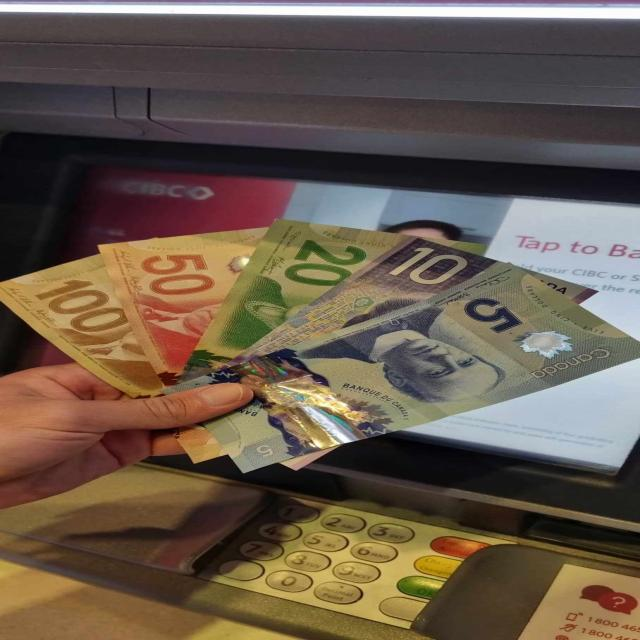10 cad: (232, 240, 507, 367)
100 cad: (4, 256, 177, 399)
20 cad: (183, 229, 398, 378)
5 cad: (238, 262, 640, 453)
50 cad: (104, 229, 263, 386)
